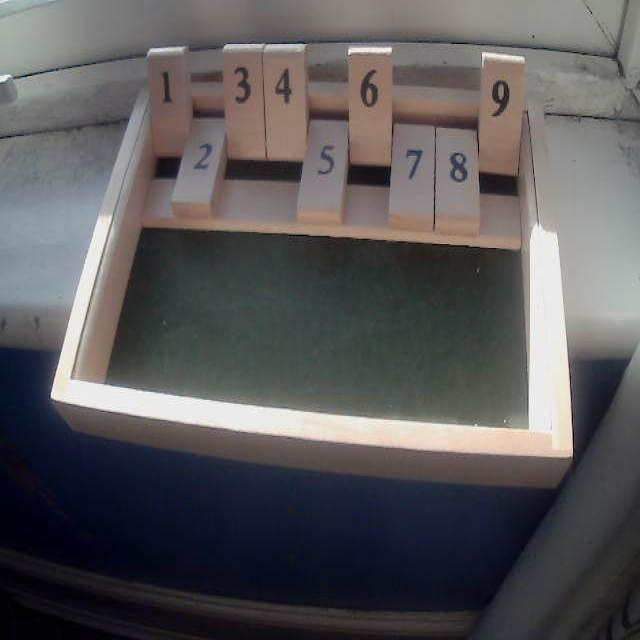C2: (173, 82, 224, 216)
C5: (298, 82, 346, 224)
C7: (390, 86, 434, 232)
C8: (437, 87, 479, 236)
O1: (141, 46, 187, 228)
O3: (222, 43, 264, 231)
O4: (263, 44, 306, 232)
O6: (347, 46, 392, 240)
O9: (481, 53, 525, 249)
